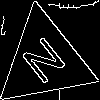N: (20, 35, 74, 93)
